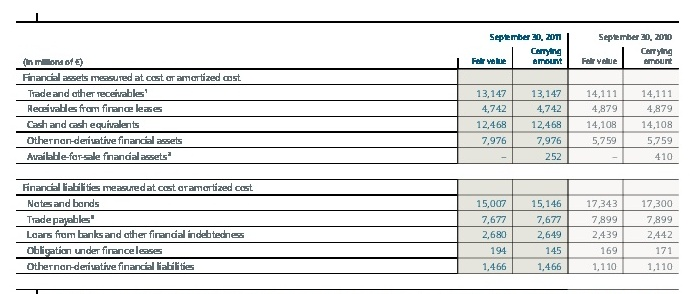table: (0, 0, 697, 294)
